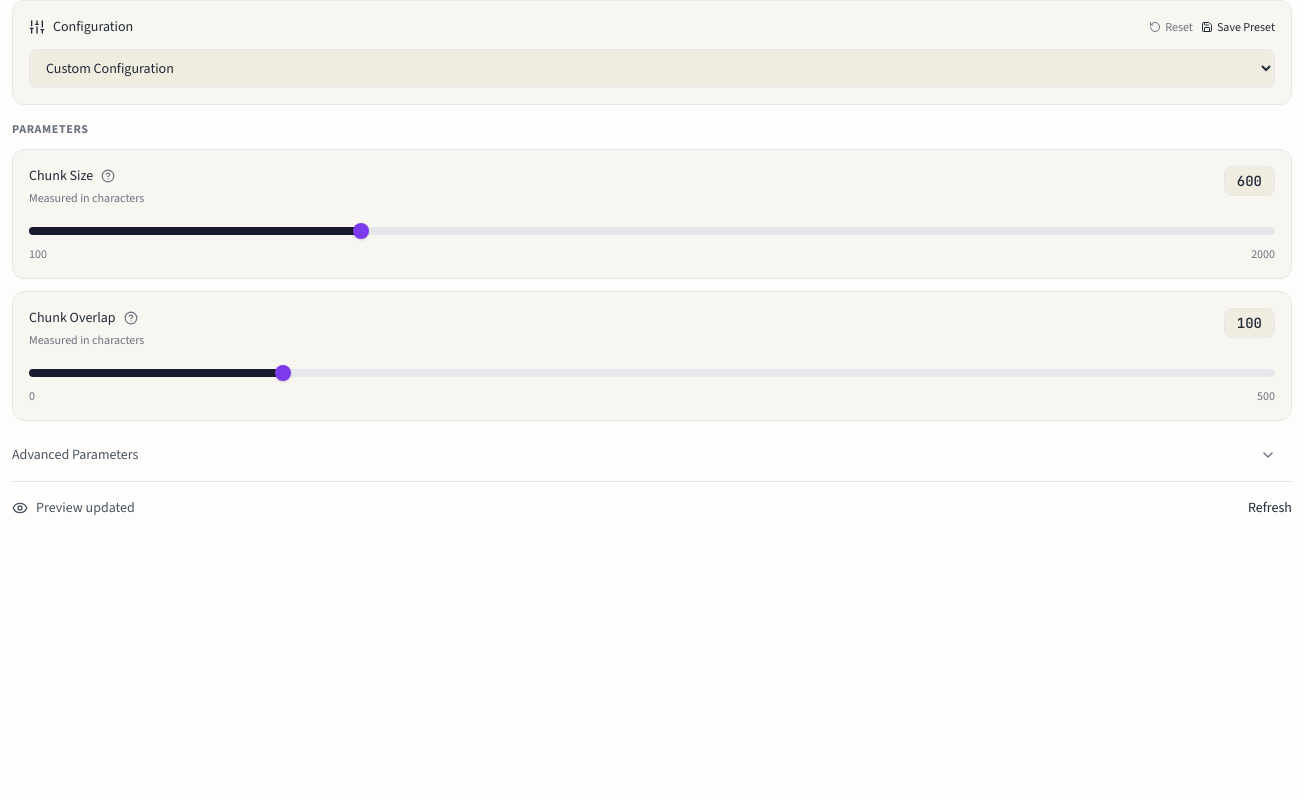
Scenario: ChunkingParameterTuner › Preset Management › shows save preset form when Save Preset button is clicked
The image size is (1304, 800).
Click the button "Save Preset" at [1238, 27], box [1201,19,1275,35]
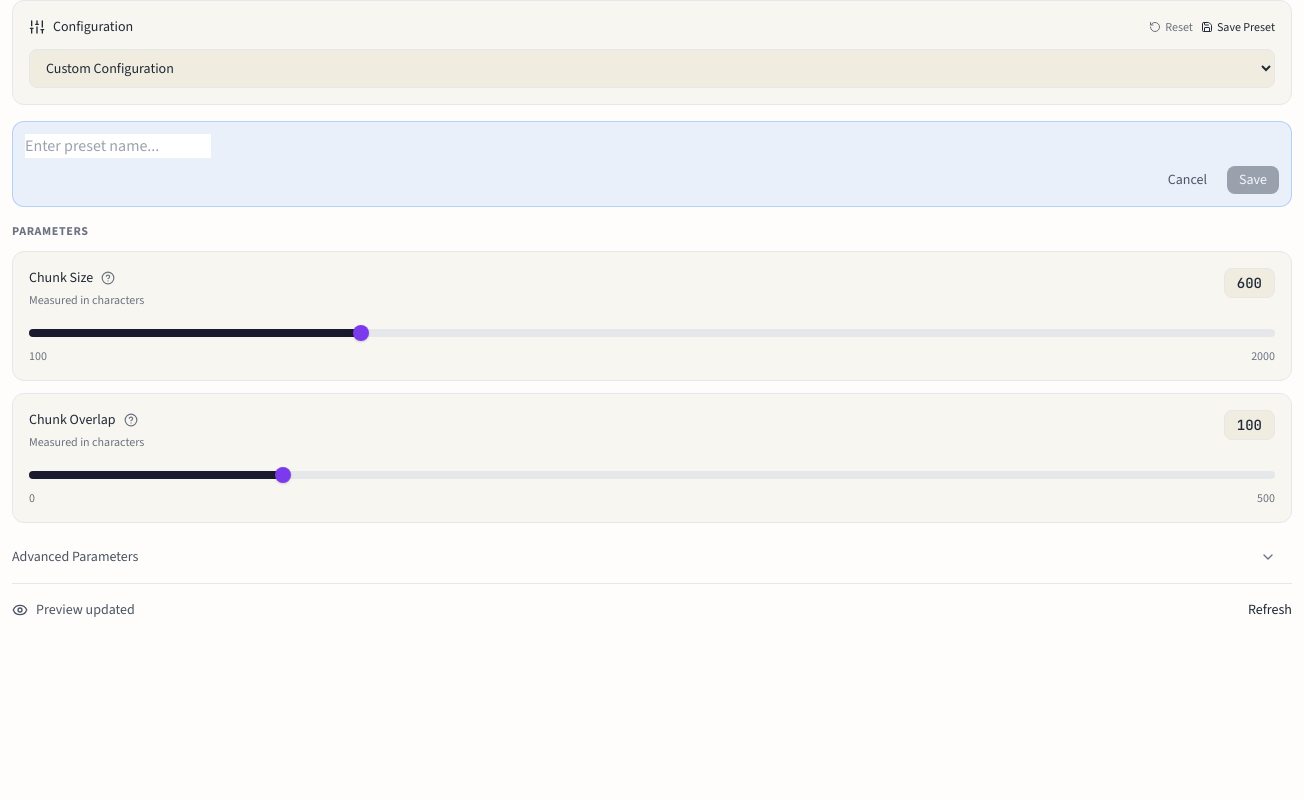
Check: the field with placeholder "Enter preset name..." is shown, box [25,134,211,158]
Check: the button "Cancel" is shown, box [1156,166,1219,194]
Check: the button "Save" is shown, box [1227,166,1279,194]
